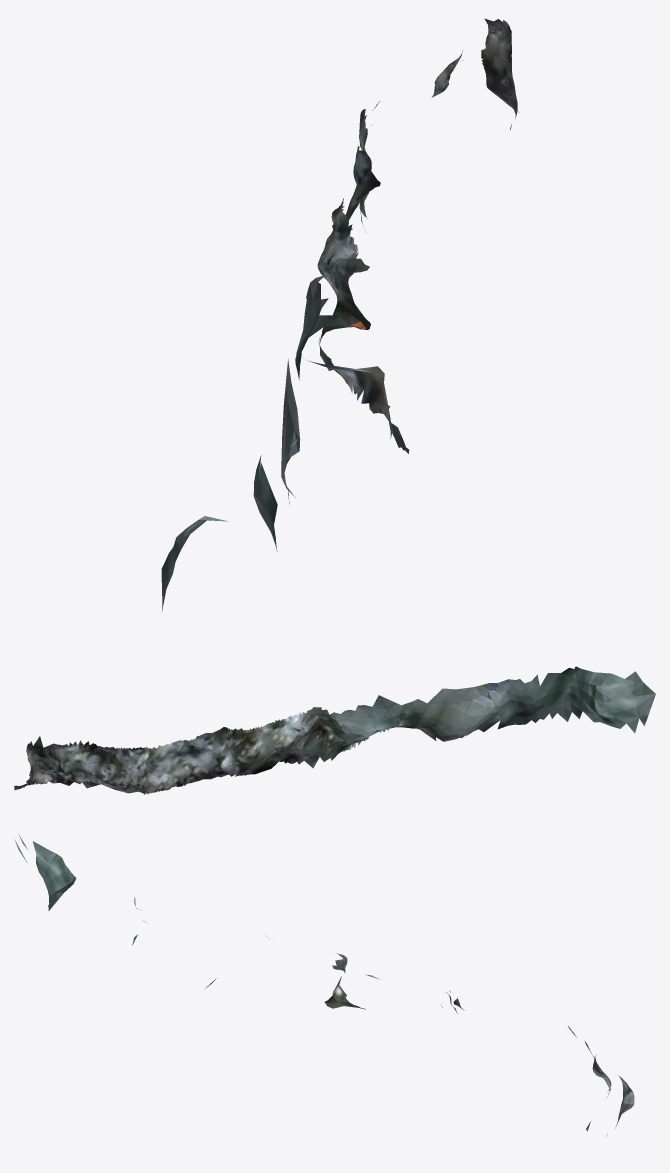
Rendered from tile_0415.gltf.
3 renders of one model, top to bottom at view 1: azimuth 30°, elevation 25°; view 2: azimuth 150°, elevation 25°; view 3: azimuth 270°, elevation 25°, orthographic. The views are drawn at different scales.
Parts seen in each view (by area): view 1: defaultobject; view 2: defaultobject; view 3: defaultobject.
Boxes of the visible parts, <box> form: defaultobject: <box>161,18,519,612</box>; defaultobject: <box>14,666,655,794</box>; defaultobject: <box>14,833,634,1137</box>.
Size of the model in its own units: 1.15 by 0.1652 by 1.11.
2 materials, 2 textured.
